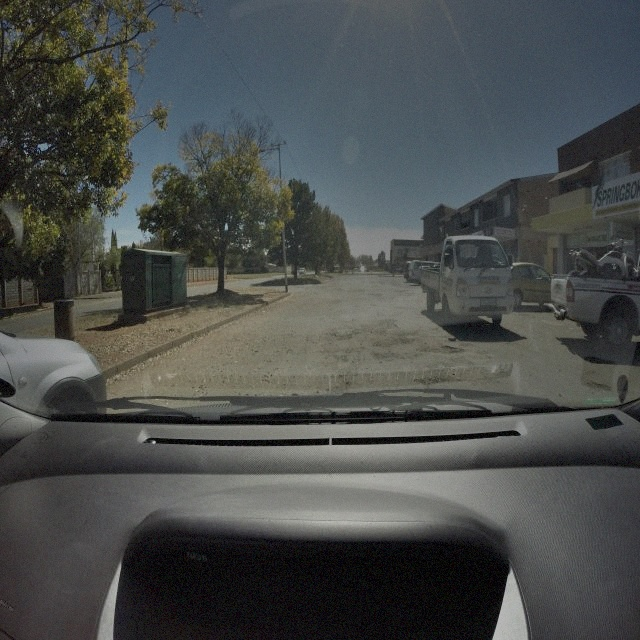pothole: (373, 335, 417, 352), (414, 373, 462, 387), (438, 342, 466, 356), (587, 380, 612, 394), (335, 328, 353, 344)
